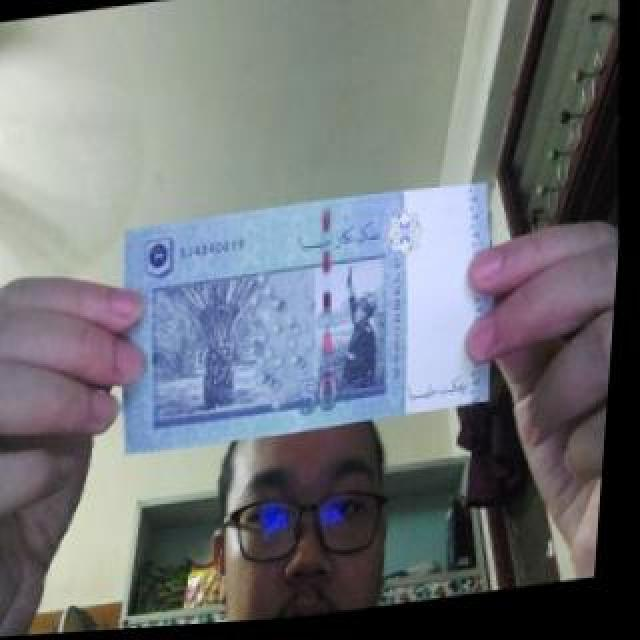50 Ringgit: (100, 176, 516, 467)
